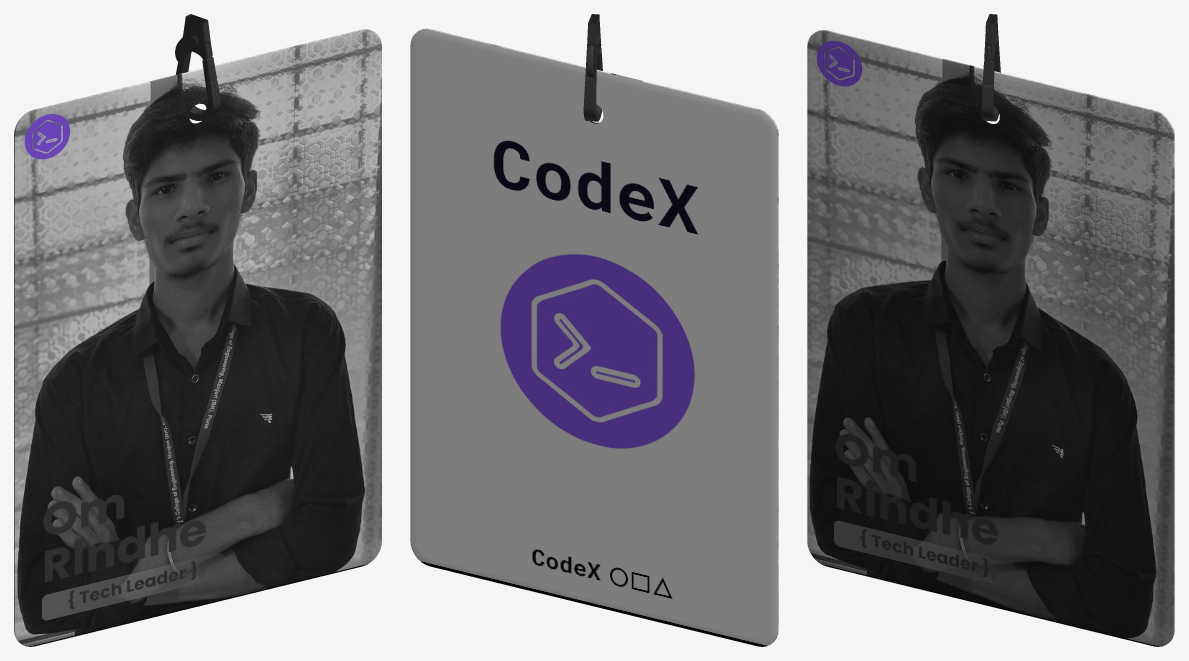
The picture shows the model from 3 angles, left to right: view 1: azimuth 30°, elevation 25°; view 2: azimuth 150°, elevation 25°; view 3: azimuth 330°, elevation 25°; orthographic projection.
Visible parts, largest first — view 1: card, clamp; view 2: card, clamp; view 3: card, clamp.
Part boxes in pixels (bbox=[...]): card: bbox=[14, 29, 381, 646]; clamp: bbox=[175, 14, 220, 120]; card: bbox=[410, 28, 778, 646]; clamp: bbox=[583, 14, 602, 121]; card: bbox=[807, 30, 1174, 646]; clamp: bbox=[981, 14, 1000, 121].
Bounding box in the file's own units: 0.7164 × 1.1 × 0.0903.
Materials: 2 (1 with a texture image).
